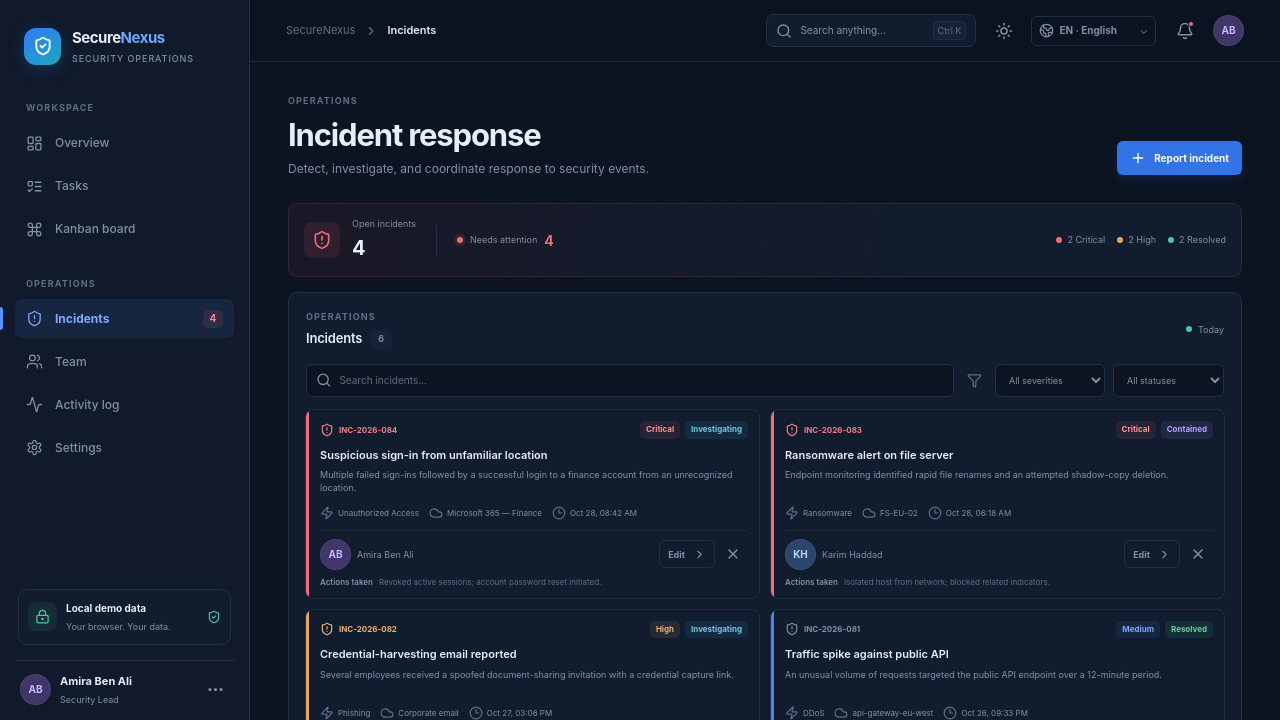
Test case: reports an incident and assigns a unique incident reference
The image size is (1280, 720).
Click the button "Report incident" at (1180, 158), box [1117,142,1242,176]
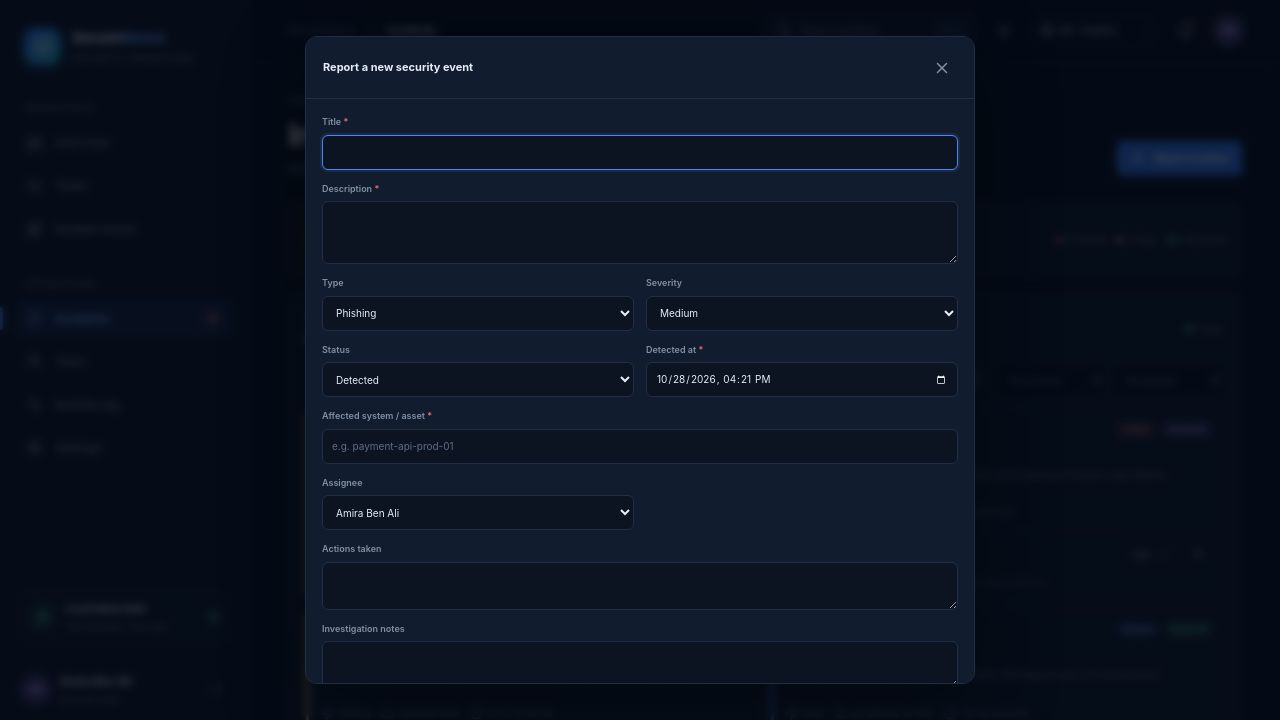
Type "Unexpected admin login" into the field labelled "Title *" at (640, 152), box [322,134,958,170]
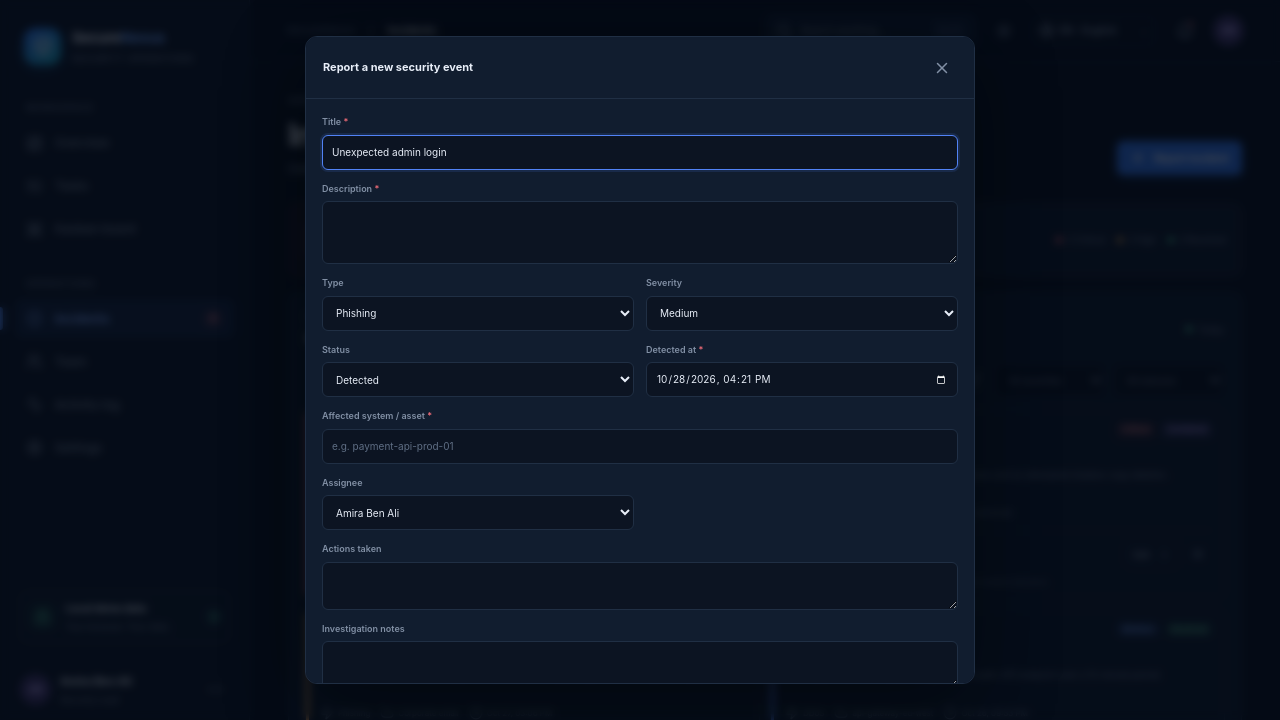
Type "Review the account sign-in activity." into the text box labelled "Description *" at (640, 232), box [322,201,958,264]
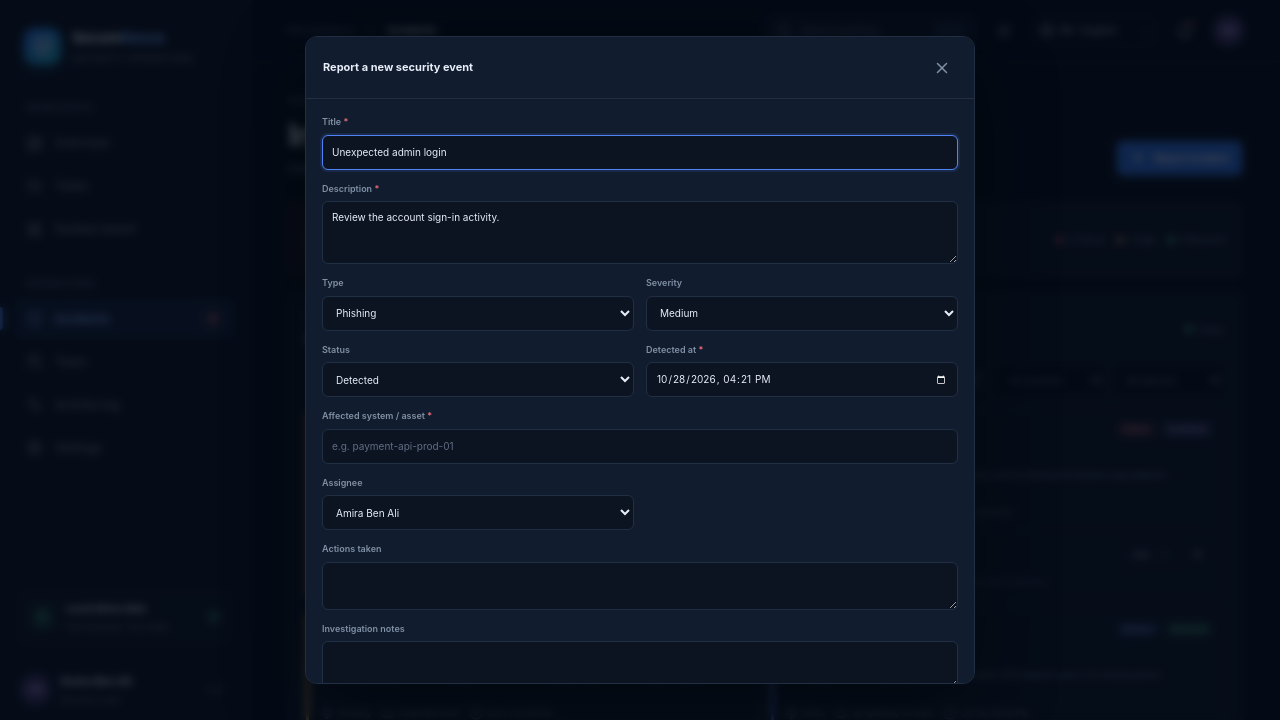
Type "identity-prod" into the field labelled "Affected system / asset *" at (640, 446), box [322,428,958,464]
(page scrolled)
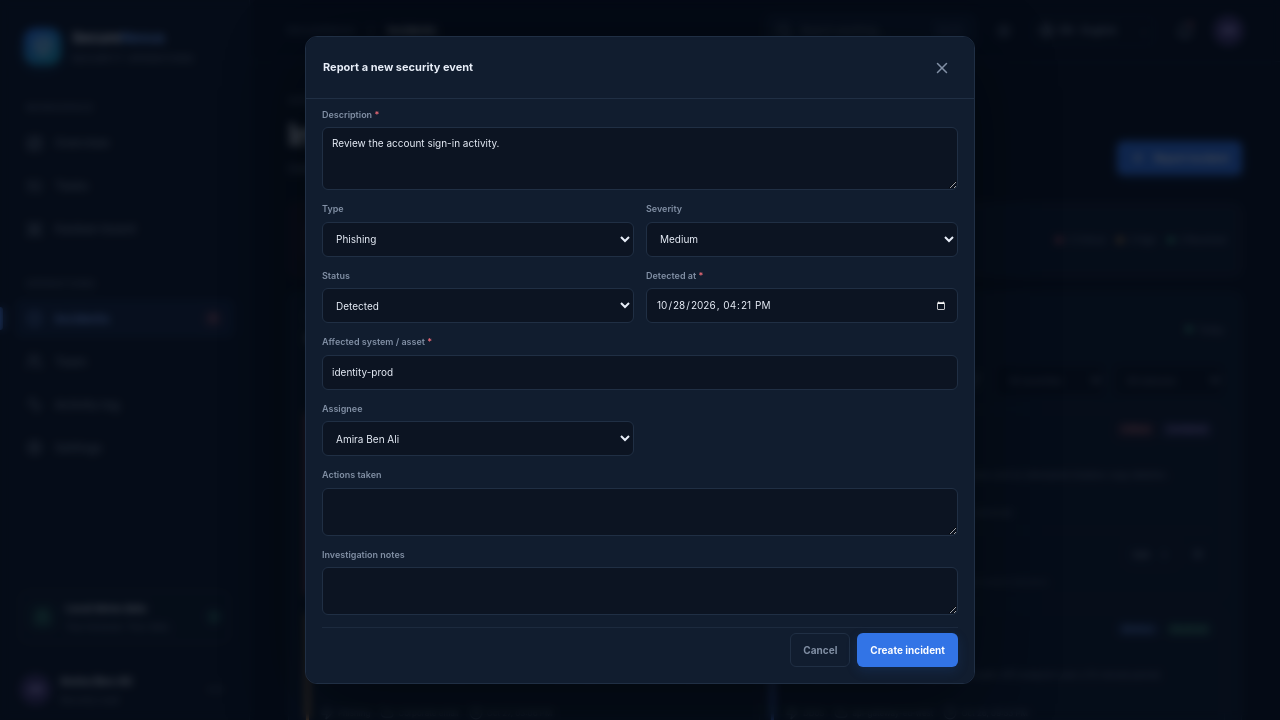
Click the button "Create incident" at (908, 650), box [857,633,958,667]
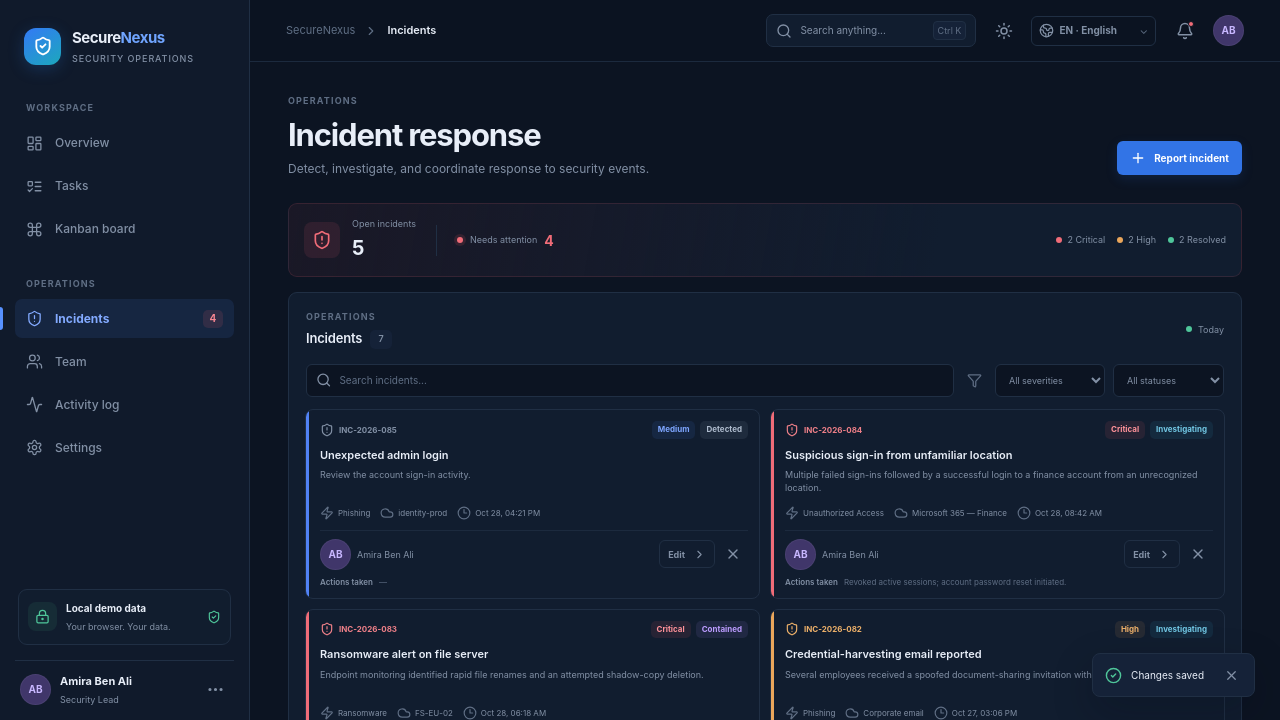
Check: the element showing "INC-2026-085" is shown, box [320,423,397,437]
Check: the heading "Unexpected admin login" is shown, box [320,448,449,462]
